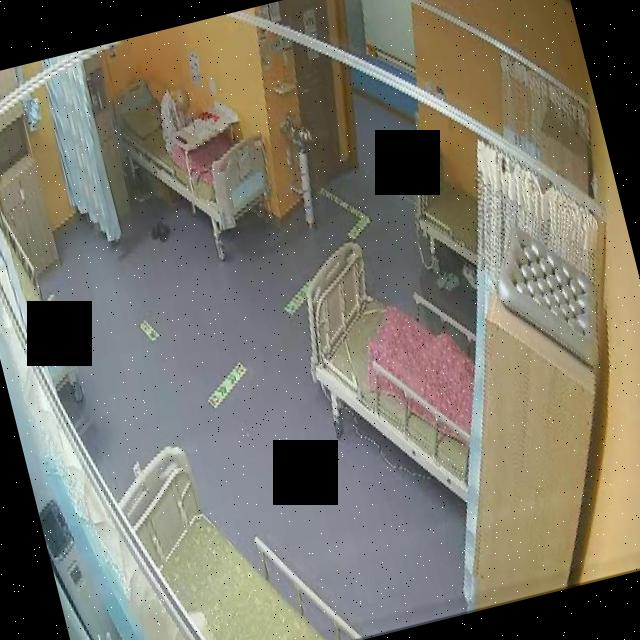bed: (288, 222, 504, 524), (106, 409, 361, 640), (108, 57, 280, 248), (398, 138, 492, 278)
patient: (150, 78, 202, 159)
sit: (148, 78, 204, 160)
